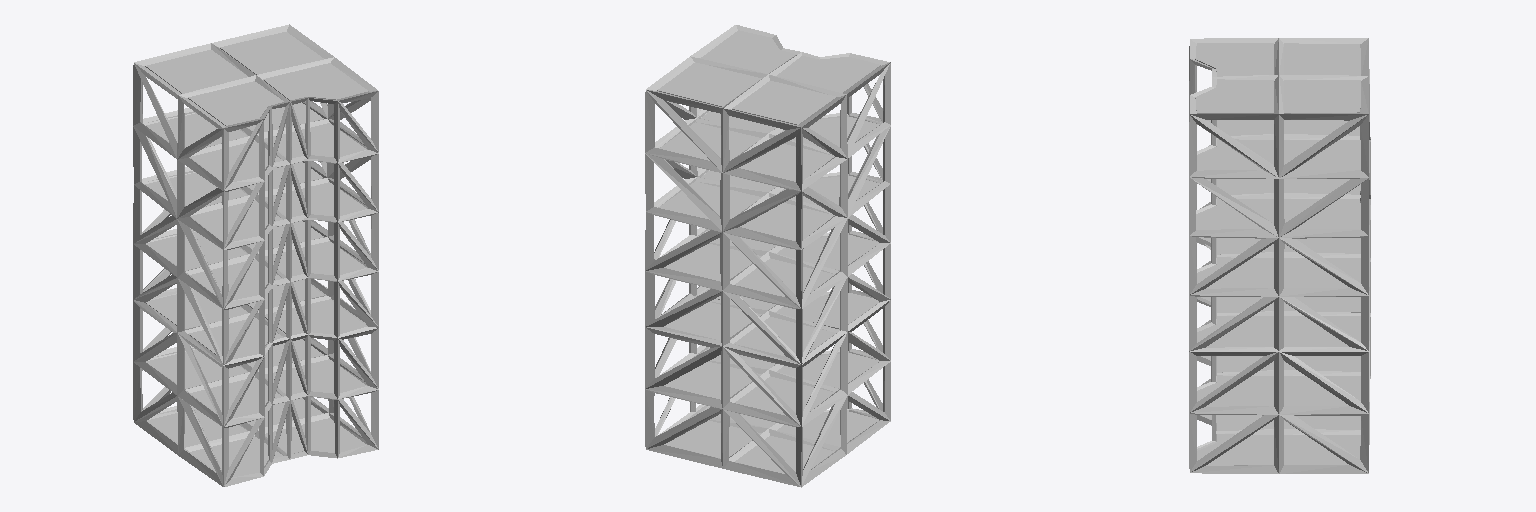
The model's file is Structures.obj.
3 views of the same model, side by side, from view 1: azimuth 30°, elevation 25°; view 2: azimuth 150°, elevation 25°; view 3: azimuth 270°, elevation 25° (orthographic).
Parts seen in each view (by area): view 1: Structure_Cube; view 2: Structure_Cube; view 3: Structure_Cube.
Boxes of the visible parts, box(x1,y1,x2,y2) form: Structure_Cube: box(133, 24, 378, 486); Structure_Cube: box(645, 25, 890, 487); Structure_Cube: box(1189, 38, 1370, 473).
Bounding box in the file's own units: 8.45 × 18.43 × 8.36.